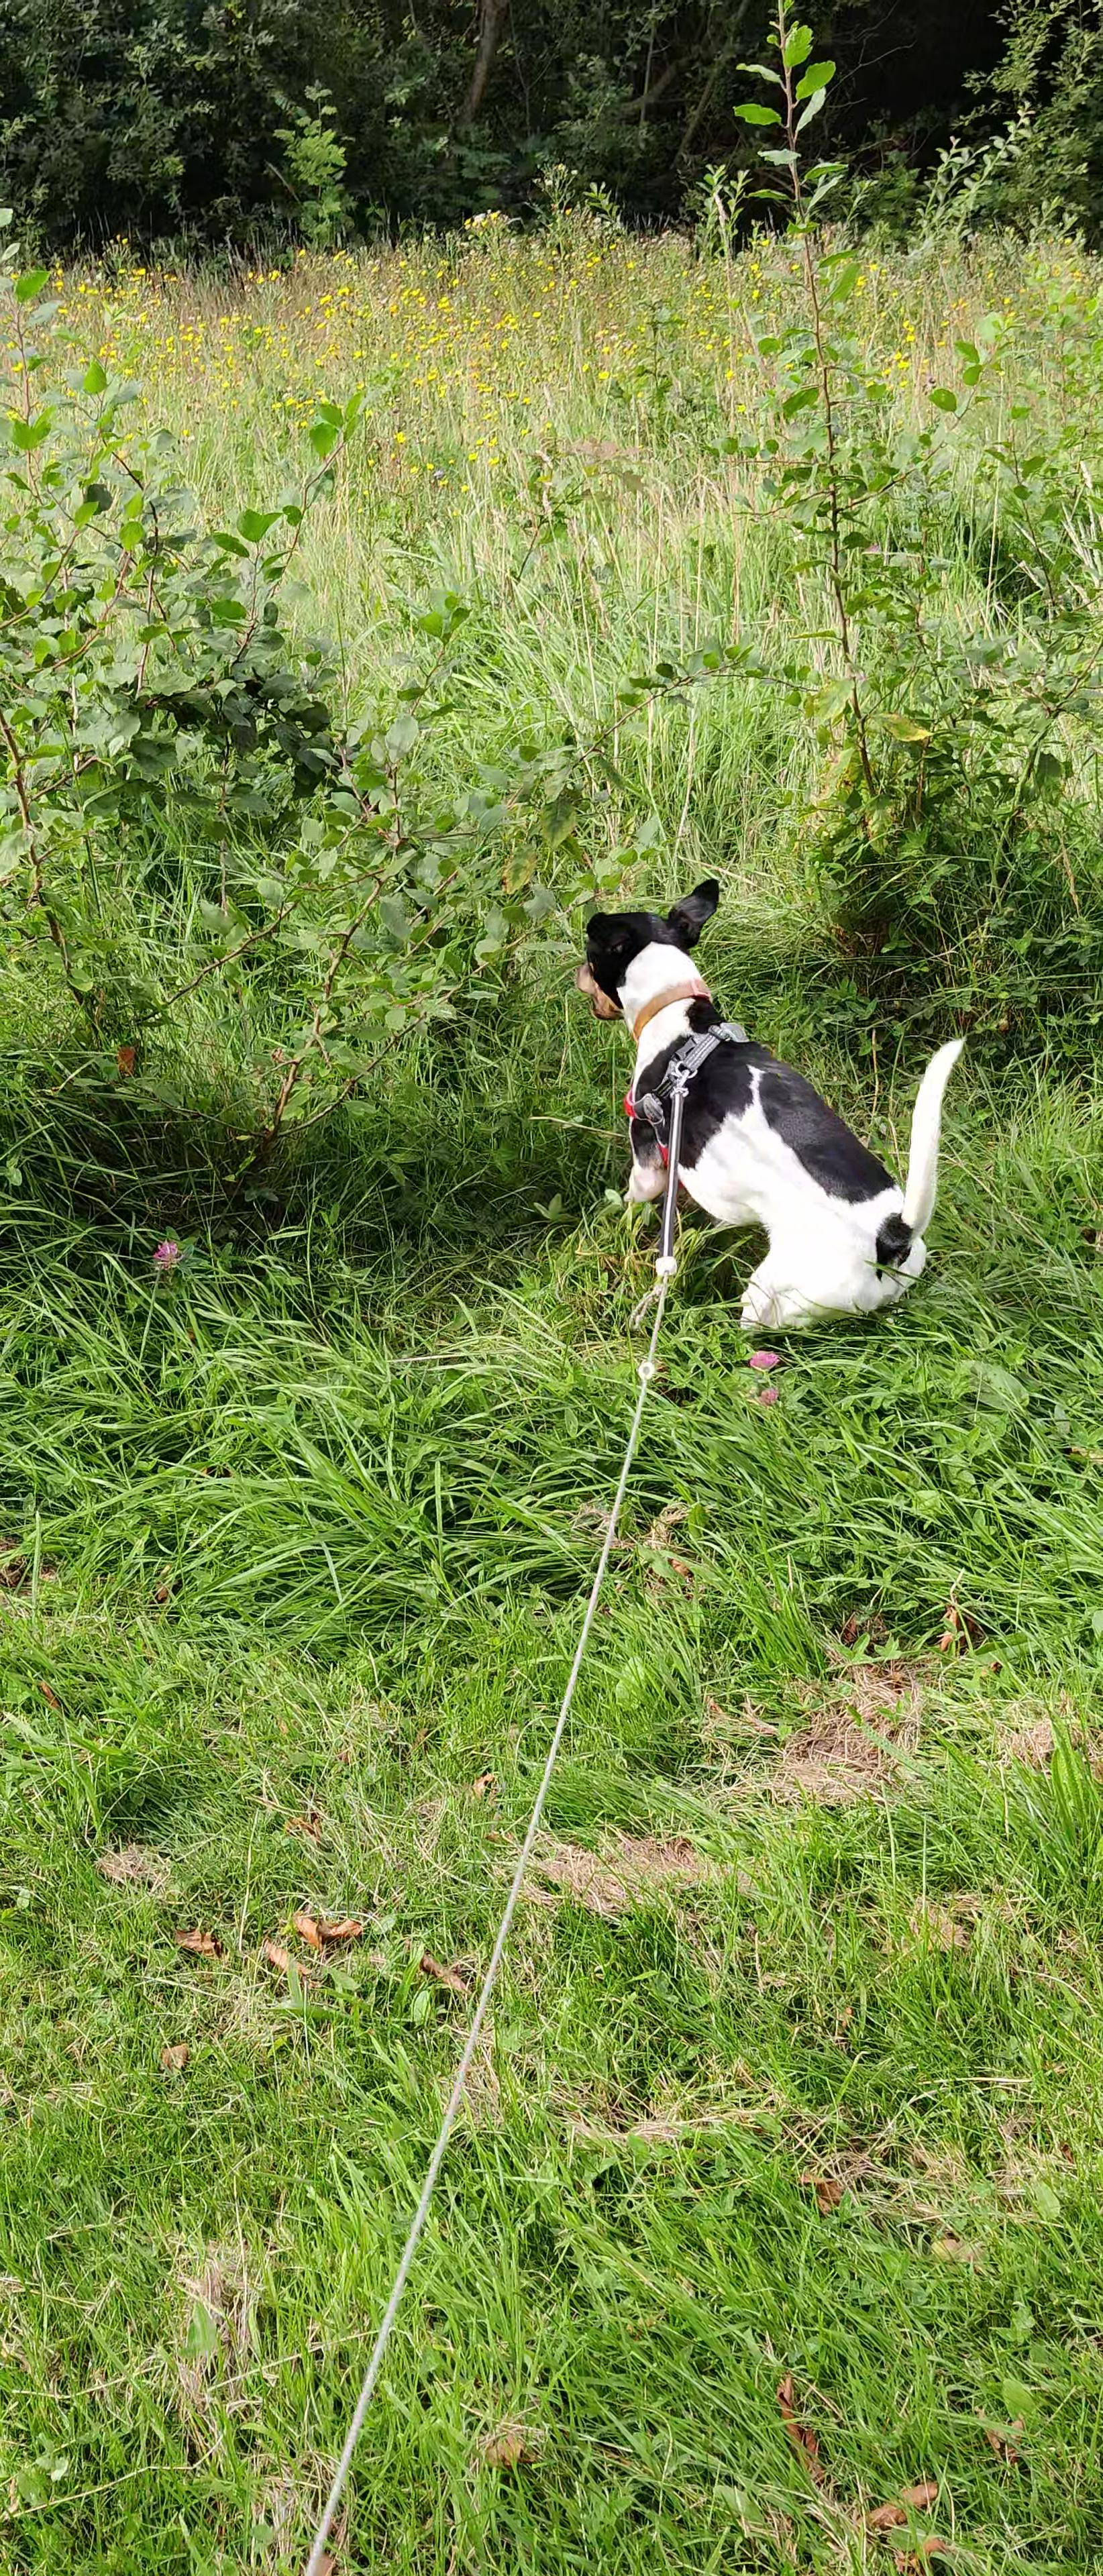Dog: (551, 856, 998, 1354)
